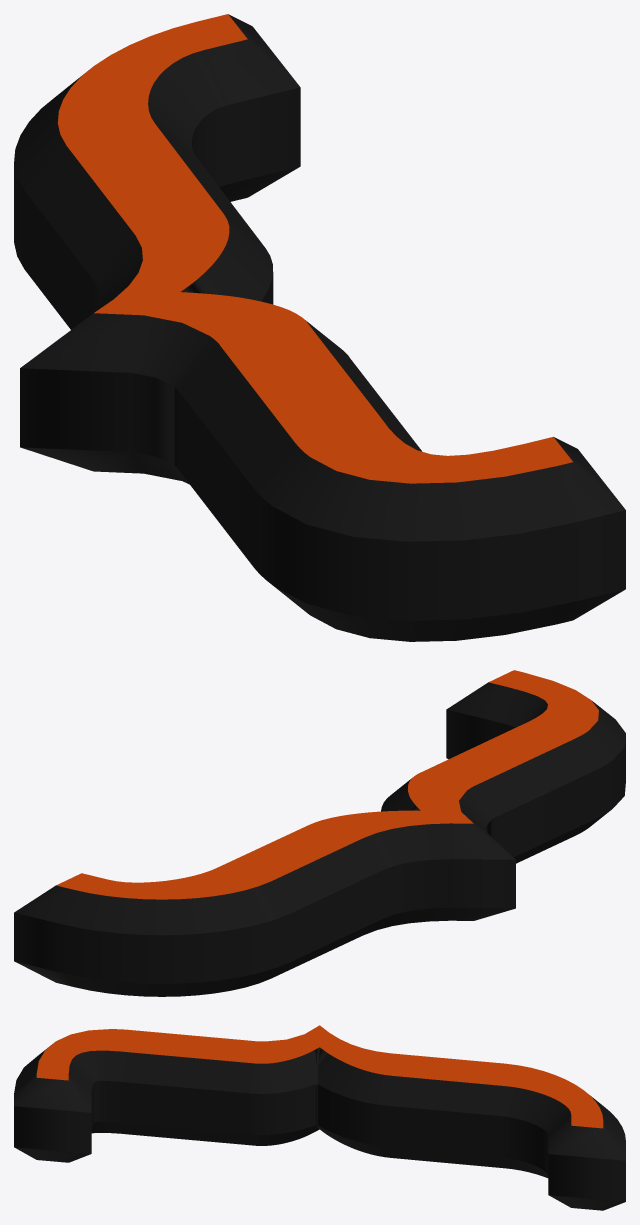
Rendered from AccoladeOuvrante.fbx.
3 renders of one model, top to bottom at view 1: azimuth 30°, elevation 25°; view 2: azimuth 150°, elevation 25°; view 3: azimuth 270°, elevation 25°, orthographic. The views are drawn at different scales.
Parts seen in each view (by area): view 1: Text; view 2: Text; view 3: Text.
Boxes of the visible parts, x1,y1,x2,y2 form: Text: [14, 14, 625, 641]; Text: [14, 670, 625, 996]; Text: [14, 1025, 625, 1210].
Bounding box in the file's own units: 0.555 × 0.16 × 1.08.
